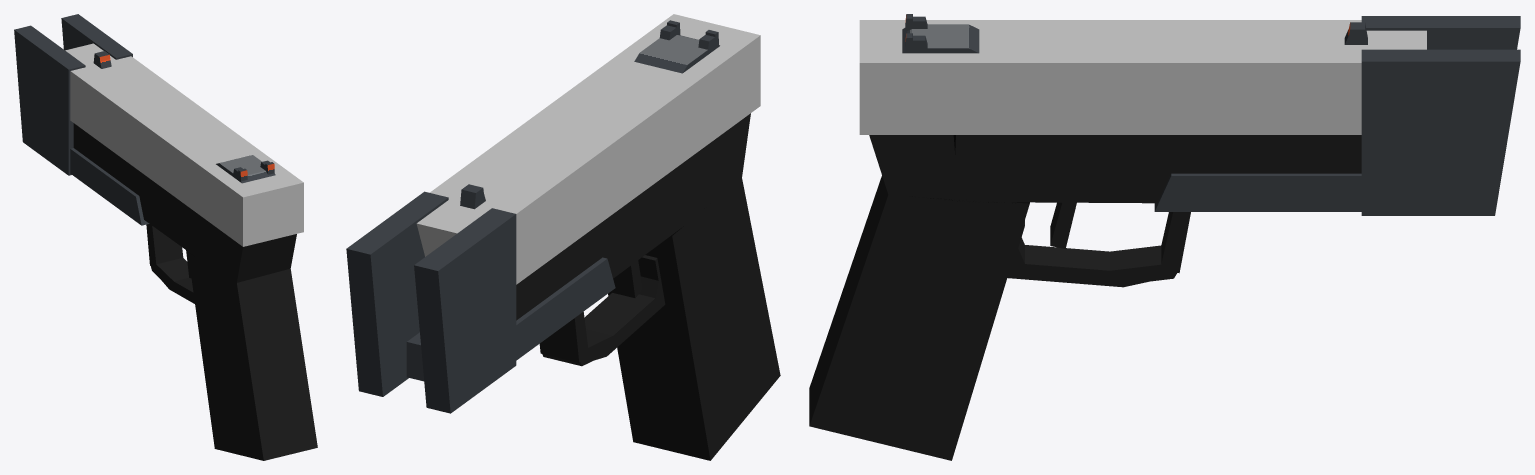
File: pistola.gltf
3 renders of one model, left to right at view 1: azimuth 30°, elevation 25°; view 2: azimuth 150°, elevation 25°; view 3: azimuth 270°, elevation 25°, orthographic. The views are drawn at different scales.
Parts seen in each view (by area): view 1: cuboid; view 2: cuboid; view 3: cuboid.
Part boxes in pixels (x1,y1,x2,y2): cuboid: [14, 14, 317, 460]; cuboid: [346, 14, 780, 460]; cuboid: [809, 14, 1520, 460].
Bounding box in the file's own units: 2.38 × 10.11 × 15.67.
Materials: 1 (1 with a texture image).
